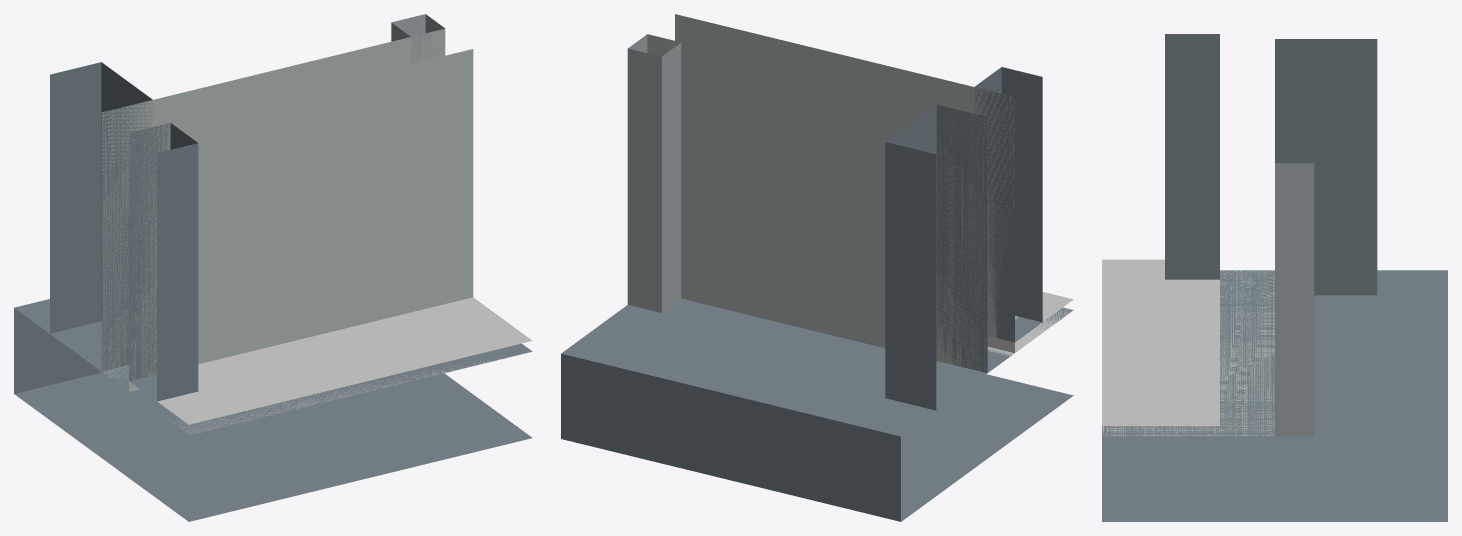
Rendered from cell_4.obj.
3 views of the same model, side by side, from view 1: azimuth 30°, elevation 25°; view 2: azimuth 150°, elevation 25°; view 3: azimuth 270°, elevation 25° (orthographic).
Size of the model in its own units: 1 by 0.96 by 0.88.
